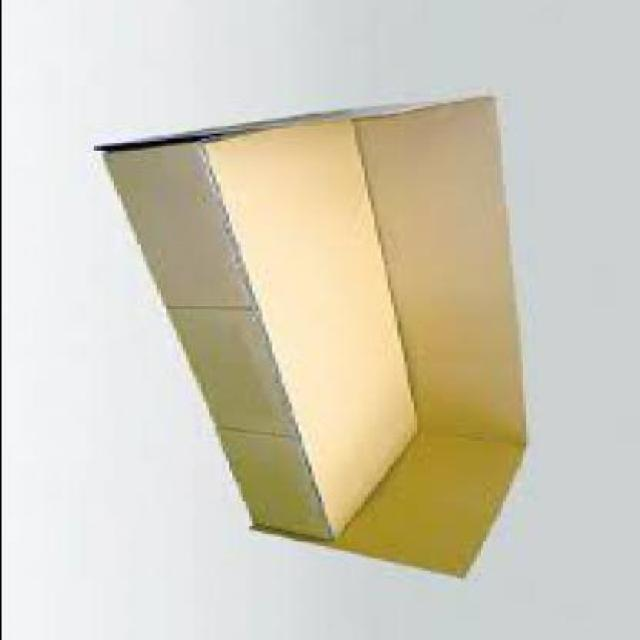CARDBOARD: (95, 99, 528, 581)
